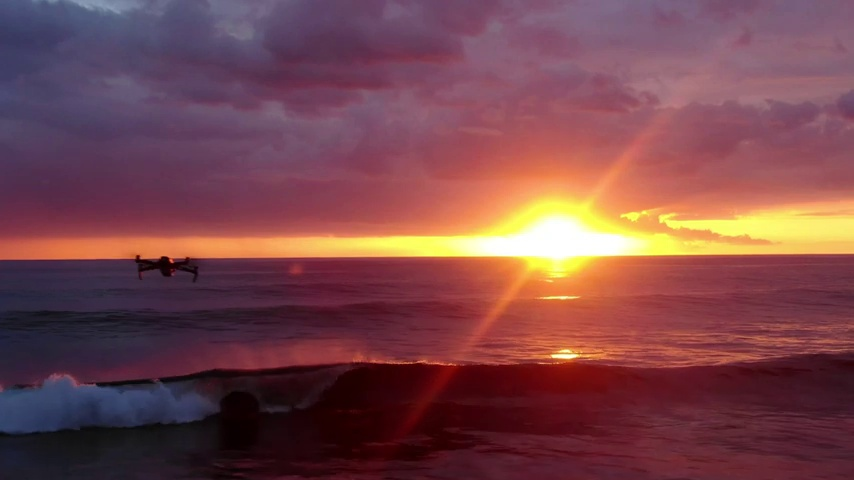drone: (134, 252, 198, 285)
